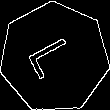L_NE: (25, 32, 84, 83)
